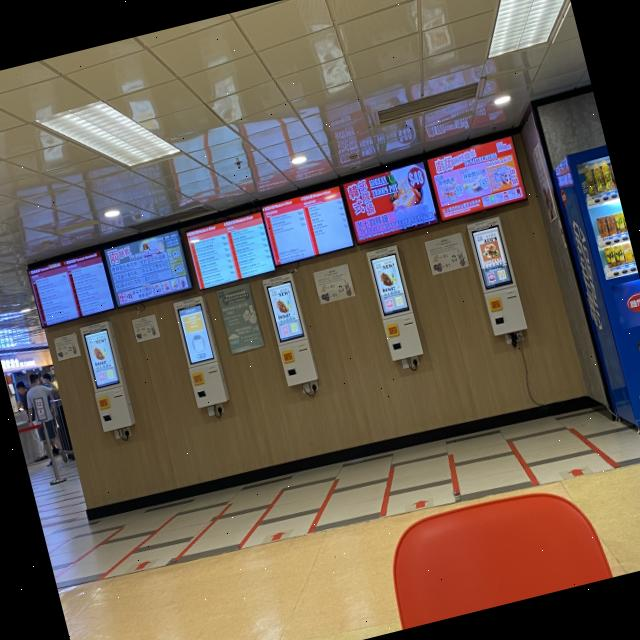orderKiosk: (466, 215, 527, 337), (364, 242, 423, 362), (260, 270, 318, 388), (172, 296, 231, 410), (78, 318, 136, 433)
